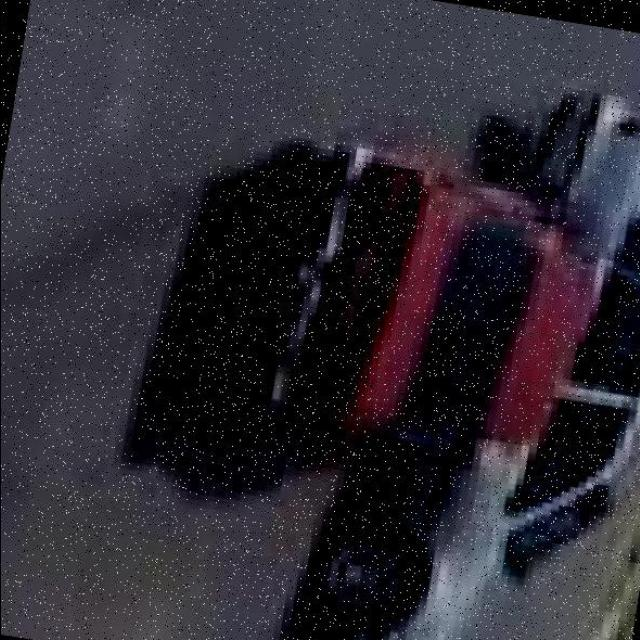accident: (191, 32, 640, 640)
